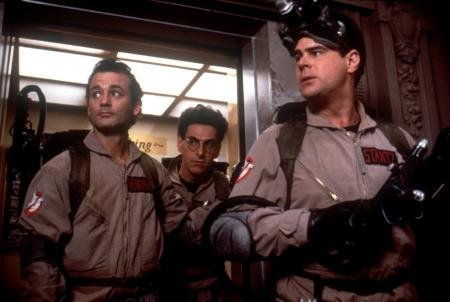28: (174, 115, 222, 180)
33: (283, 23, 350, 107)
37: (79, 62, 137, 136)
Glasses: (174, 134, 223, 153)
Gloves: (302, 200, 394, 280)
Jump suit: (205, 99, 436, 299), (14, 130, 189, 301), (155, 152, 238, 302)
Male: (283, 23, 350, 107), (79, 62, 137, 136), (174, 115, 222, 180)
